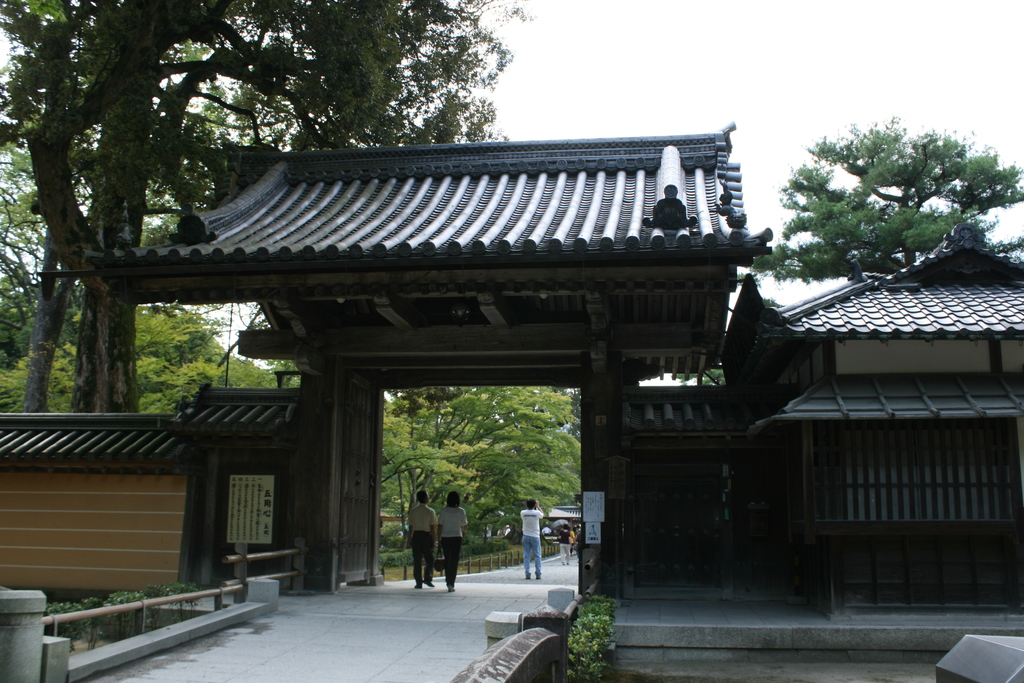Tree: (0, 0, 535, 416), (750, 117, 1024, 286), (385, 383, 581, 580)
